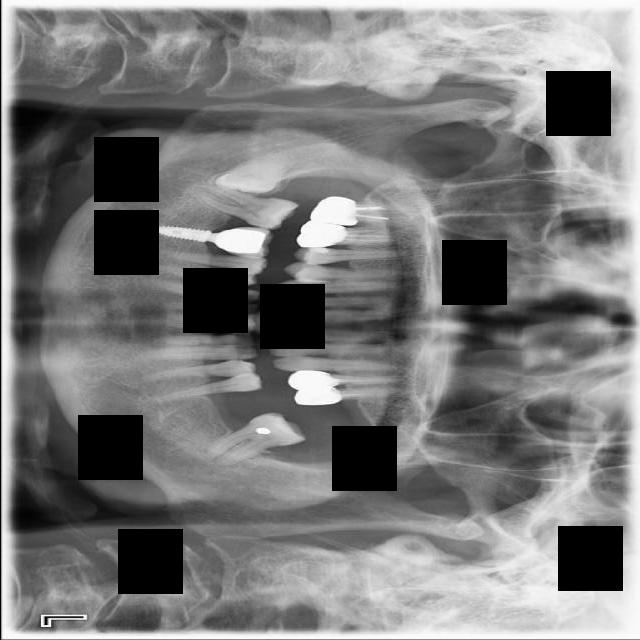52: (290, 183, 365, 265), (212, 220, 274, 261), (288, 371, 342, 406), (302, 242, 328, 261)
73: (354, 202, 408, 224), (330, 374, 403, 390), (333, 227, 396, 245), (336, 384, 399, 400), (96, 524, 104, 544)
Blue Sky Bio Implant: (206, 405, 305, 468)
Caries: (308, 193, 408, 232)
Implant: (193, 183, 299, 234)
Keystone Dental Implant: (211, 147, 298, 209)
